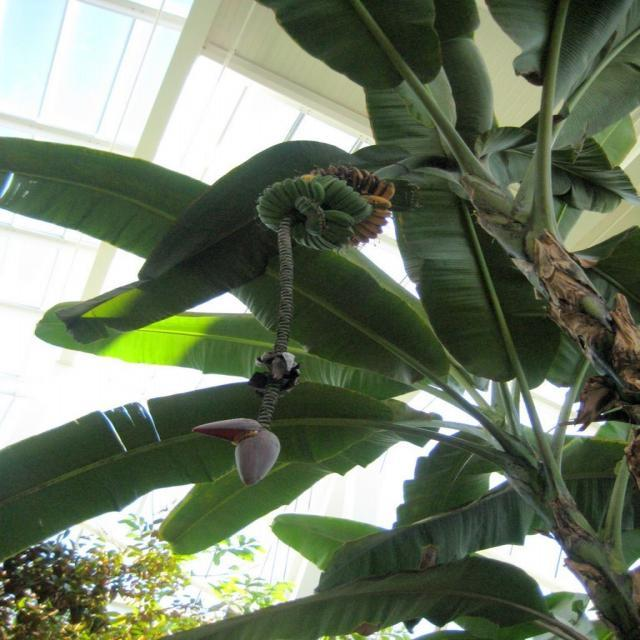Banana: (255, 162, 394, 253), (362, 194, 394, 207)
